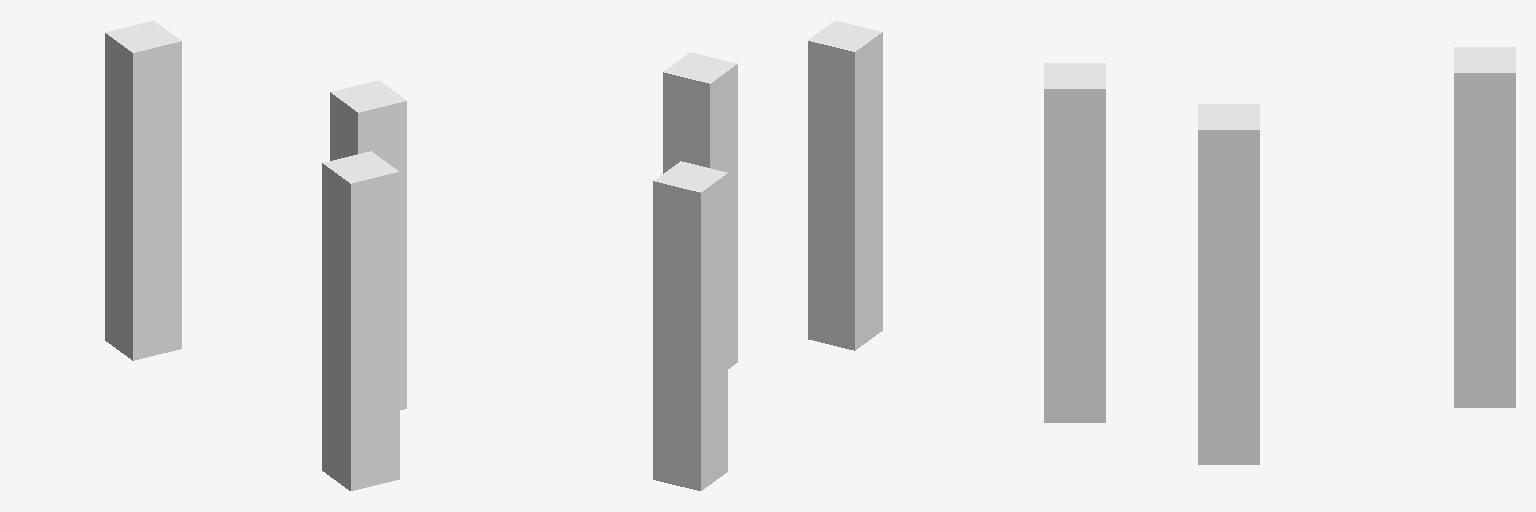
URDF robot description (cluttered_obstacles_hardware):
<?xml version='1.0' encoding='utf-8'?>
<robot name="cluttered_obstacles_hardware">
  <link name="base_link" />
  <link name="obstacle1">
    <inertial>
      <origin xyz="-0.127 1.2333 0.262" rpy="0 0 0" />
      <mass value="999999999999999999999999999.0" />
      <inertia ixx="0.01" ixy="0" ixz="0" iyy="0.01" iyz="0" izz="0.01" />
    </inertial>
    <visual>
      <origin xyz="-0.127 1.2333 0.262" rpy="0 0 0" />
      <geometry>
        <box size="0.254 0.254 1.524" />
      </geometry>
      <material name="obstacle1_color">
        <color rgba="1 1 1 1" />
      </material>
    </visual>
    <collision>
      <origin xyz="-0.127 1.2333 0.262" rpy="0 0 0" />
      <geometry>
        <box size="0.254 0.254 1.524" />
      </geometry>
    </collision>
  </link>
  <joint name="joint_1_obstacle1" type="fixed">
    <parent link="base_link" />
    <child link="obstacle1" />
    <origin xyz="0 0 0" rpy="0 0 0" />
  </joint>
  <link name="obstacle2">
    <inertial>
      <origin xyz="0.2794 1.8683 0.262" rpy="0 0 0" />
      <mass value="999999999999999999999999999.0" />
      <inertia ixx="0.01" ixy="0" ixz="0" iyy="0.01" iyz="0" izz="0.01" />
    </inertial>
    <visual>
      <origin xyz="0.2794 1.8683 0.262" rpy="0 0 0" />
      <geometry>
        <box size="0.254 0.254 1.524" />
      </geometry>
      <material name="obstacle2_color">
        <color rgba="1 1 1 1" />
      </material>
    </visual>
    <collision>
      <origin xyz="0.2794 1.8683 0.262" rpy="0 0 0" />
      <geometry>
        <box size="0.254 0.254 1.524" />
      </geometry>
    </collision>
  </link>
  <joint name="joint_2_obstacle2" type="fixed">
    <parent link="base_link" />
    <child link="obstacle2" />
    <origin xyz="0 0 0" rpy="0 0 0" />
  </joint>
  <link name="obstacle3">
    <inertial>
      <origin xyz="-0.2794 2.9224 0.262" rpy="0 0 0" />
      <mass value="999999999999999999999999999.0" />
      <inertia ixx="0.01" ixy="0" ixz="0" iyy="0.01" iyz="0" izz="0.01" />
    </inertial>
    <visual>
      <origin xyz="-0.2794 2.9224 0.262" rpy="0 0 0" />
      <geometry>
        <box size="0.254 0.254 1.524" />
      </geometry>
      <material name="obstacle3_color">
        <color rgba="1 1 1 1" />
      </material>
    </visual>
    <collision>
      <origin xyz="-0.2794 2.9224 0.262" rpy="0 0 0" />
      <geometry>
        <box size="0.254 0.254 1.524" />
      </geometry>
    </collision>
  </link>
  <joint name="joint_3_obstacle3" type="fixed">
    <parent link="base_link" />
    <child link="obstacle3" />
    <origin xyz="0 0 0" rpy="0 0 0" />
  </joint>
</robot>

--- Facts derived from the render (not from the file) ---
Views: 3 orthographic renders of the robot side by side, from view 1: azimuth 30°, elevation 25°; view 2: azimuth 150°, elevation 25°; view 3: azimuth 270°, elevation 25°.
Robot: cluttered_obstacles_hardware — 4 links, 3 joints (3 fixed); root link base_link; default pose: every joint at zero.
Visible links, largest first — view 1: obstacle1, obstacle3, obstacle2; view 2: obstacle1, obstacle3, obstacle2; view 3: obstacle2, obstacle3, obstacle1.
Link boxes in pixels (bbox=[...]): obstacle1: bbox=[322, 151, 399, 490]; obstacle3: bbox=[105, 21, 181, 360]; obstacle2: bbox=[330, 80, 406, 409]; obstacle1: bbox=[808, 21, 882, 350]; obstacle3: bbox=[653, 161, 727, 490]; obstacle2: bbox=[663, 52, 737, 368]; obstacle2: bbox=[1198, 104, 1259, 464]; obstacle3: bbox=[1454, 47, 1515, 407]; obstacle1: bbox=[1044, 63, 1105, 422].
Size in the robot's own frame: 0.8128 by 1.94 by 1.52 metres.
Geometry: primitives only (box / cylinder / sphere), no mesh files.
